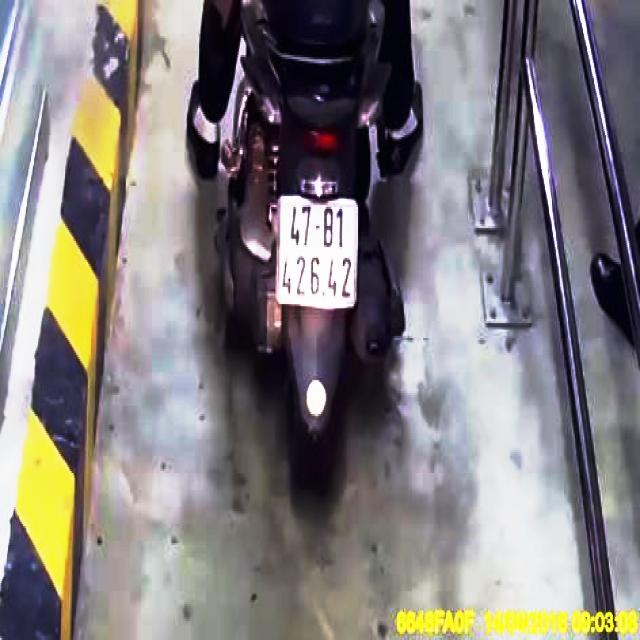license_plate: (279, 199, 358, 311)
